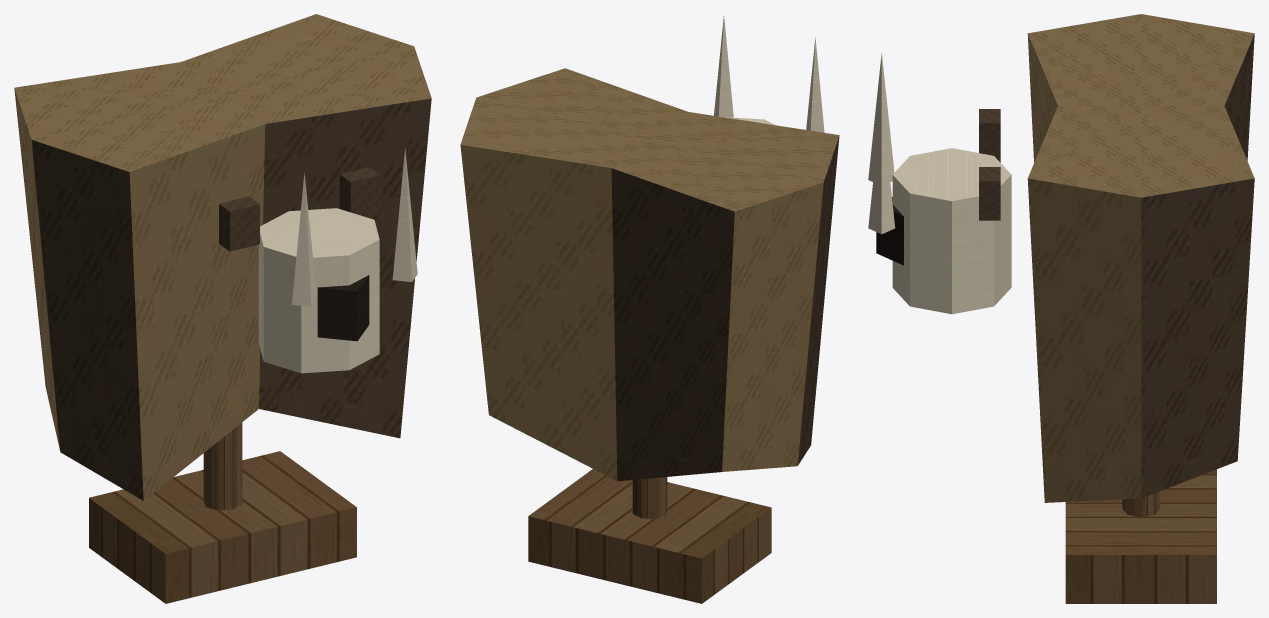
File: ae_raid_trophy_pelt_lod1.glb
3 renders of one model, left to right at view 1: azimuth 30°, elevation 25°; view 2: azimuth 150°, elevation 25°; view 3: azimuth 270°, elevation 25°, orthographic. The views are drawn at different scales.
Parts seen in each view (by area): view 1: ae_raid_trophy_pelt_lod1; view 2: ae_raid_trophy_pelt_lod1; view 3: ae_raid_trophy_pelt_lod1.
Boxes of the visible parts, x1,y1,x2,y2 form: ae_raid_trophy_pelt_lod1: [14, 14, 431, 603]; ae_raid_trophy_pelt_lod1: [460, 16, 839, 603]; ae_raid_trophy_pelt_lod1: [868, 14, 1254, 603].
Size of the model in its own units: 0.9001 by 1.1 by 0.8.
1 material, 1 textured.
